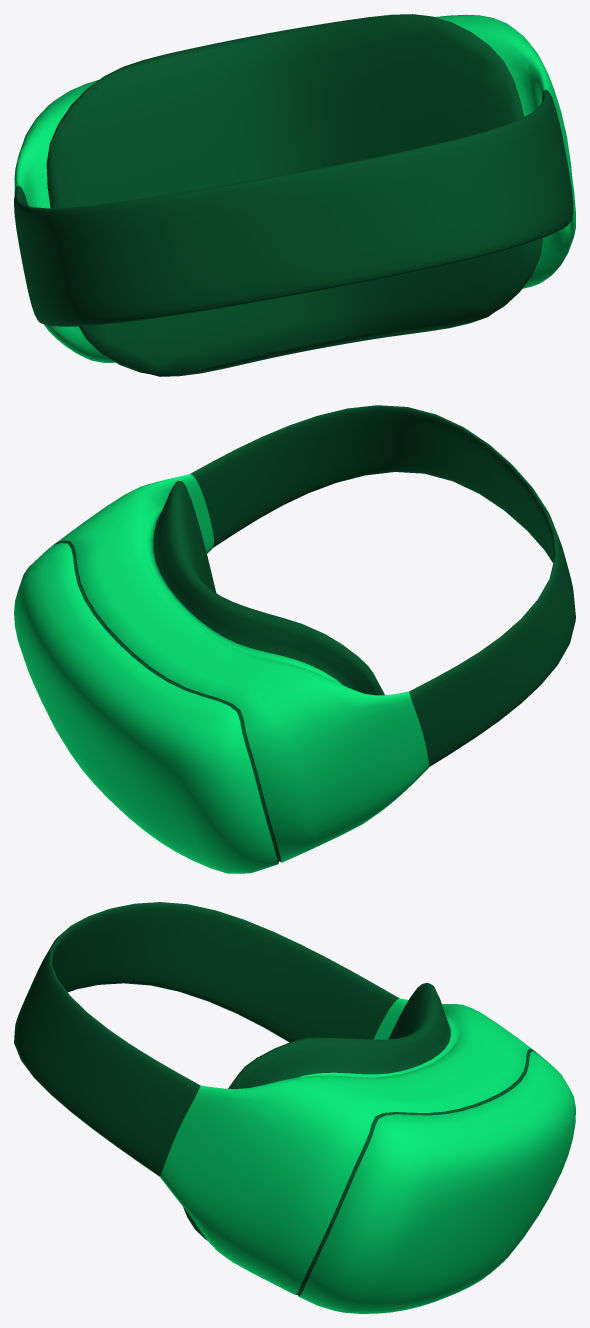
File: icon_vr1.glb
The picture shows the model from 3 angles, top to bottom: view 1: azimuth 30°, elevation 25°; view 2: azimuth 150°, elevation 25°; view 3: azimuth 270°, elevation 25°; orthographic projection. The views are drawn at different scales.
Parts seen in each view (by area): view 1: icon_vr; view 2: icon_vr; view 3: icon_vr.
Boxes of the visible parts, x1,y1,x2,y2 form: icon_vr: (14, 14, 575, 376); icon_vr: (14, 405, 575, 873); icon_vr: (14, 902, 575, 1313).
Size of the model in its own units: 0.3049 by 0.1886 by 0.3139.
